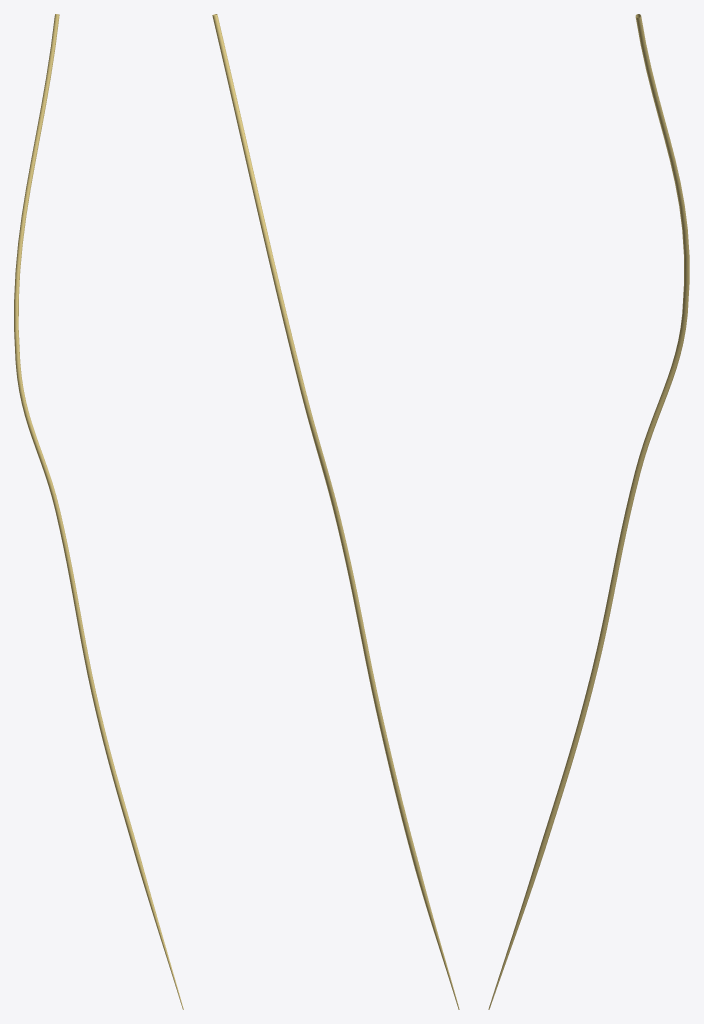
The picture shows the model from 3 angles, left to right: view 1: azimuth 90°, elevation 25°; view 2: azimuth 150°, elevation 25°; view 3: azimuth 270°, elevation 25°; orthographic projection. The views are drawn at different scales.
Parts seen in each view (by area): view 1: ZA_83a21f91fdd1a9eb; view 2: ZA_83a21f91fdd1a9eb; view 3: ZA_83a21f91fdd1a9eb.
Part boxes in pixels (x1,y1,x2,y2): ZA_83a21f91fdd1a9eb: [14, 14, 183, 1009]; ZA_83a21f91fdd1a9eb: [212, 14, 459, 1009]; ZA_83a21f91fdd1a9eb: [488, 14, 689, 1009].
Bounding box in the file's own units: 0.0389 × 0.2097 × 0.0352.
